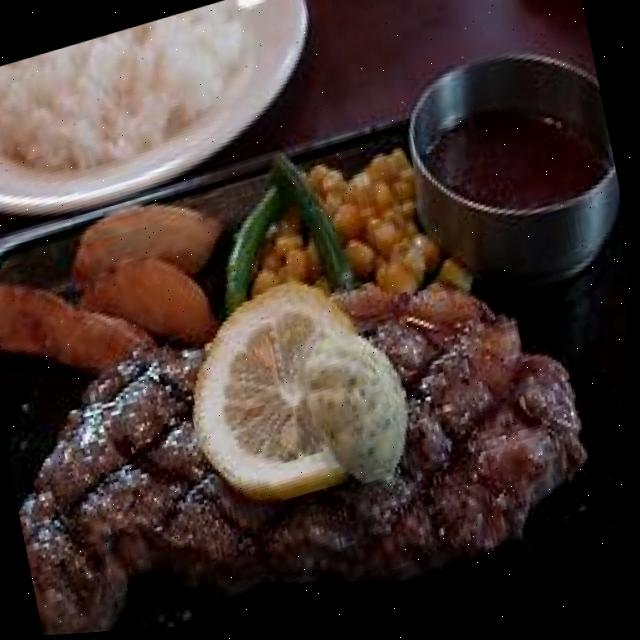牛肉菜式: (0, 217, 617, 640)
